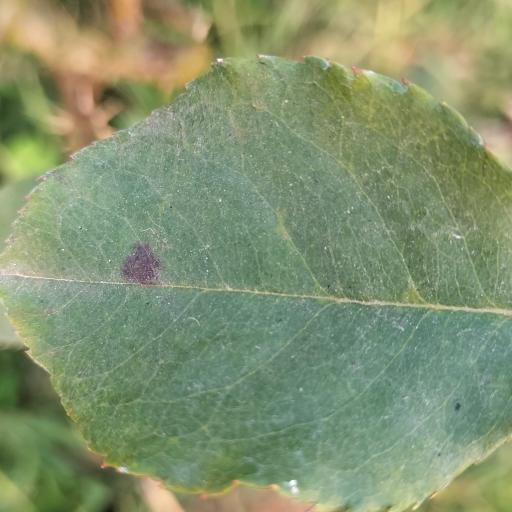black_spot: (0, 56, 512, 512)
